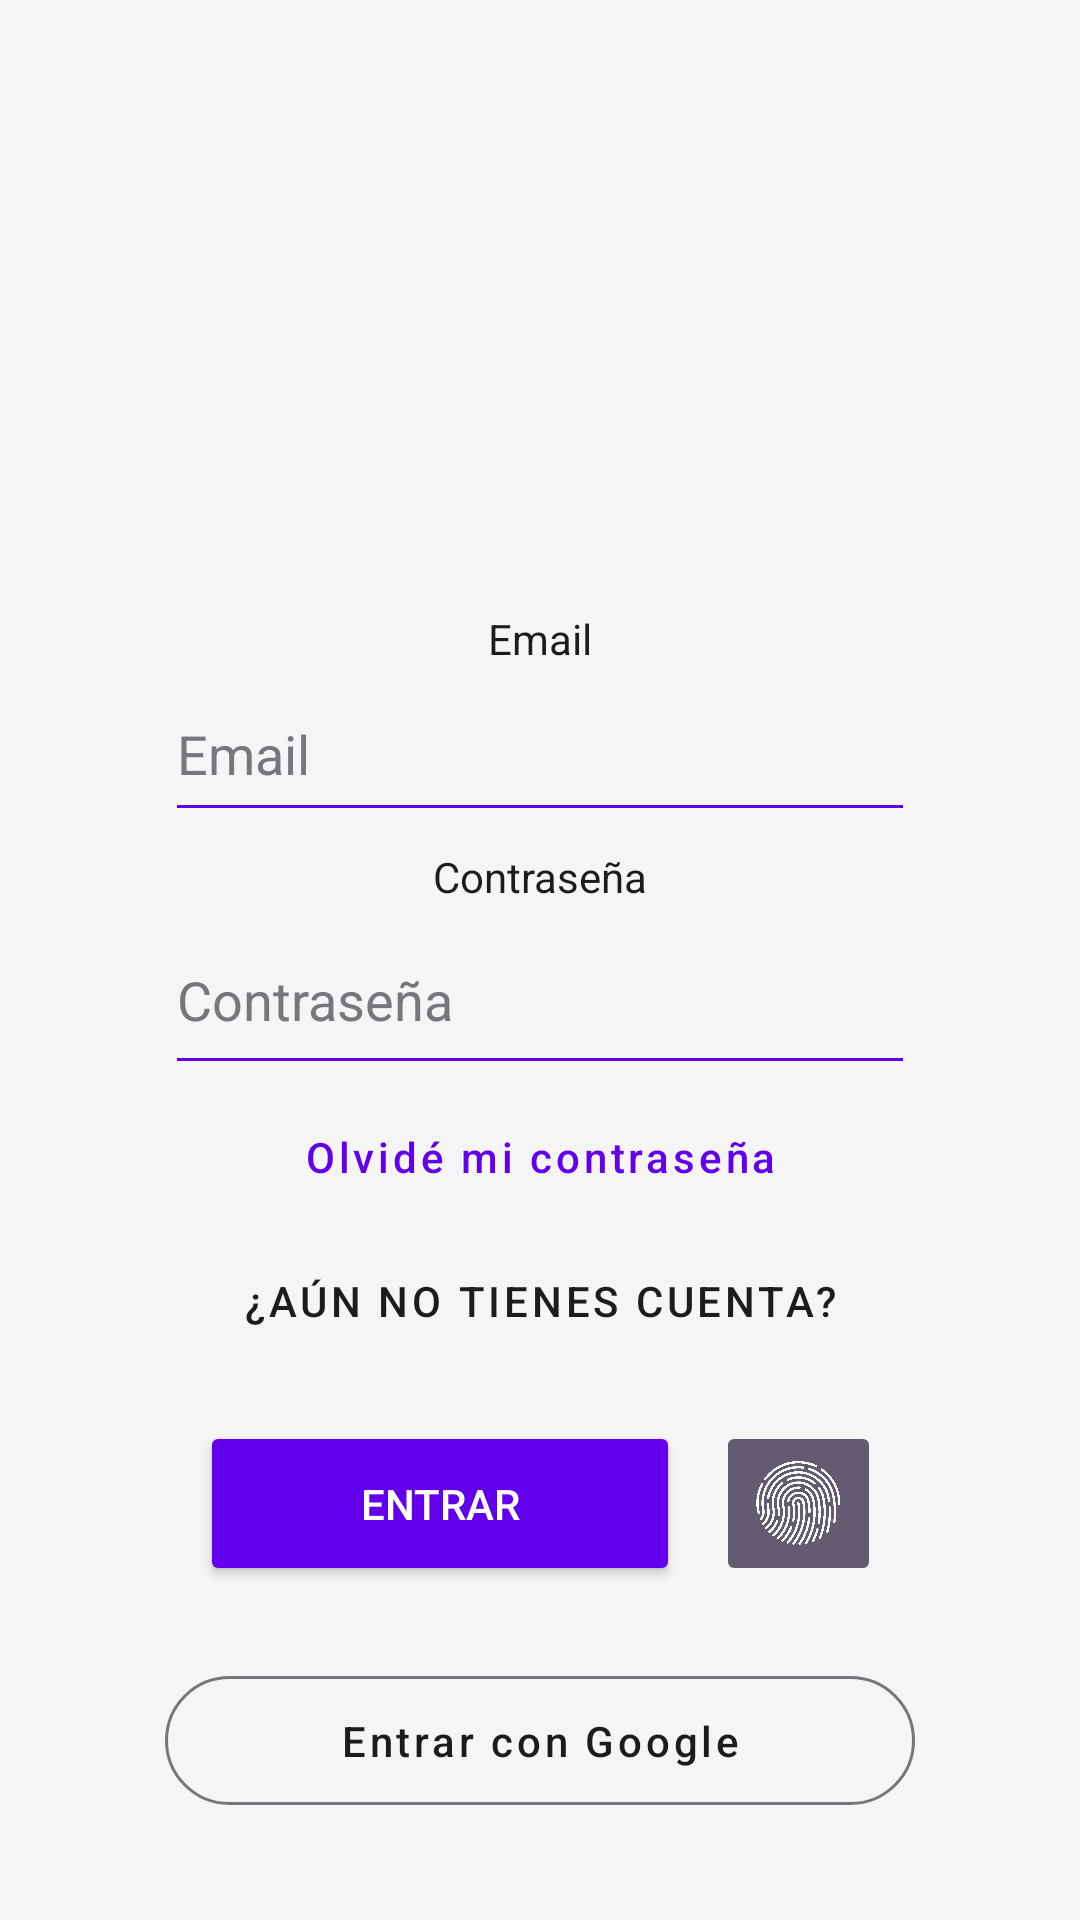

Named icons in this screenshot (1080*1920) and their centers, [x,y]:
fingerprint bk: [798,1503]
